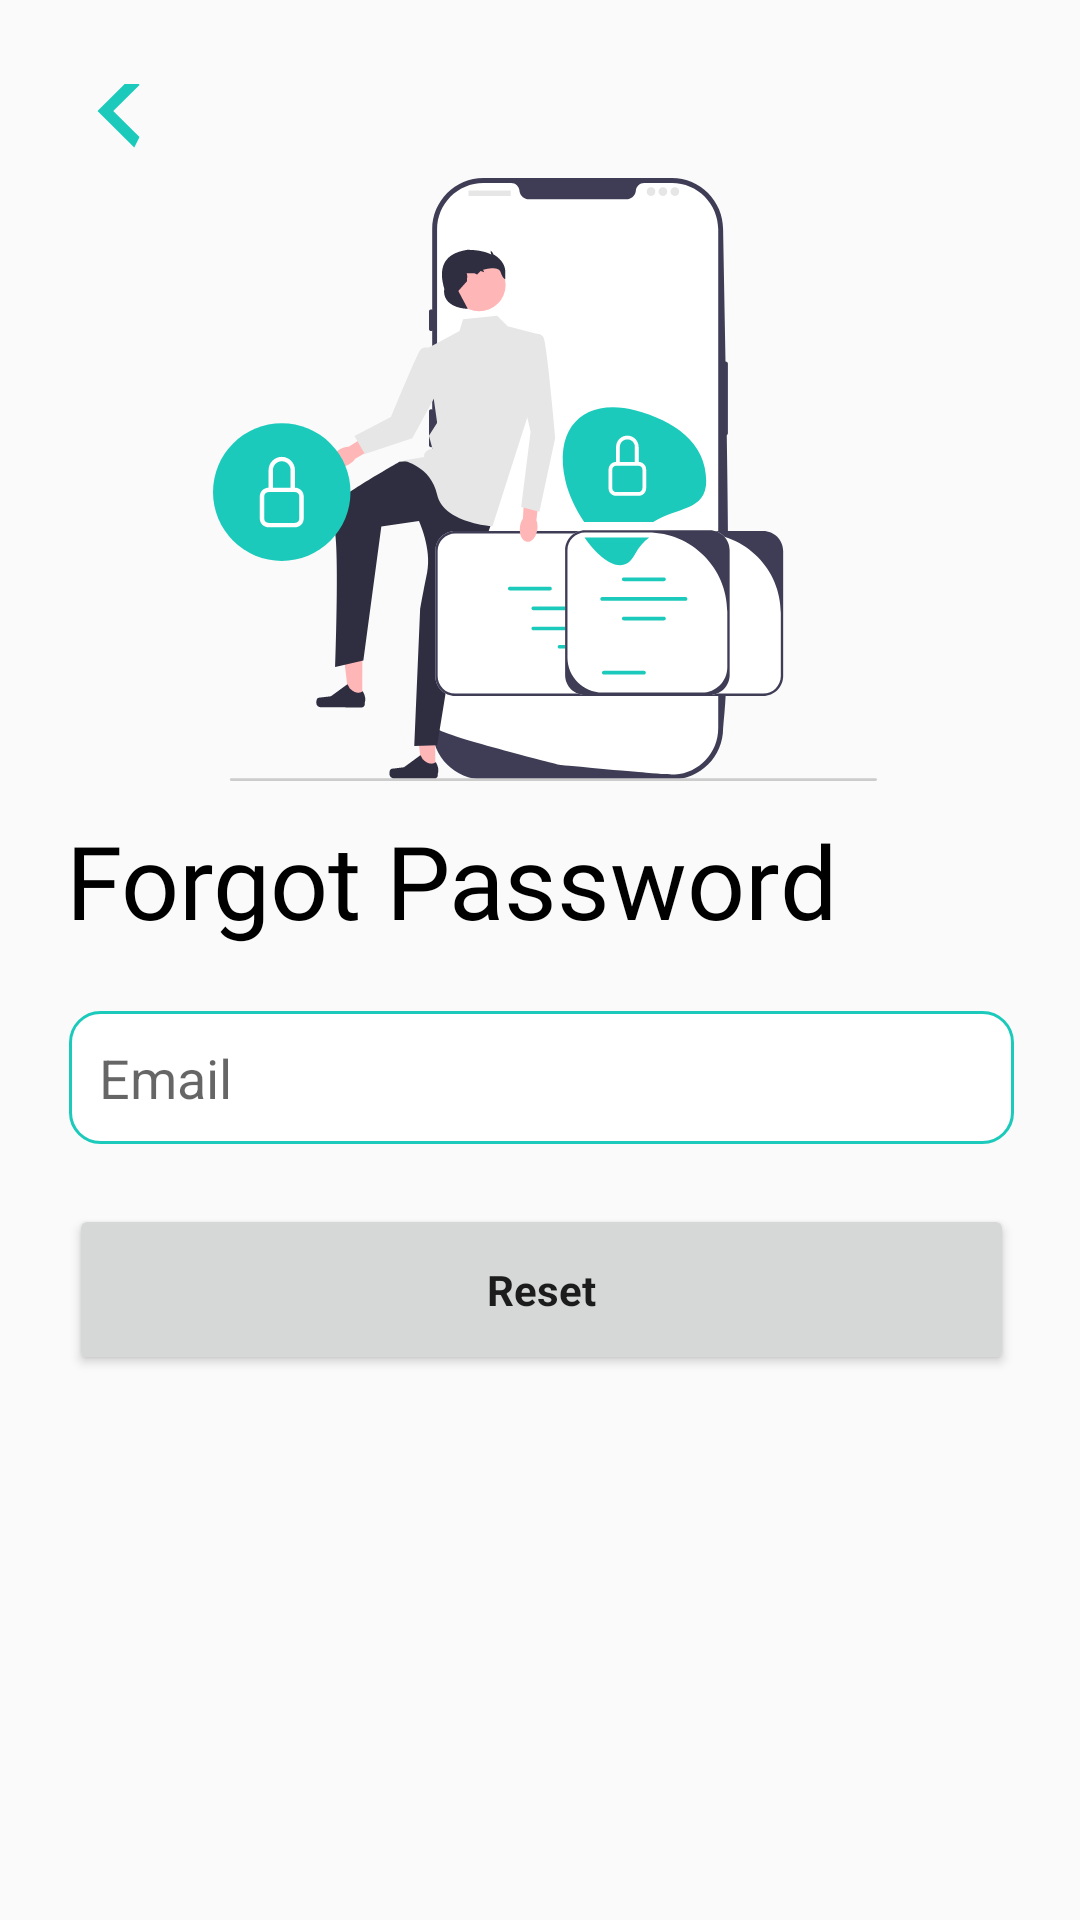

Screen size 1080px×1920px. Icon name, then its center in pixels as (x,y):
back: (118,116)
